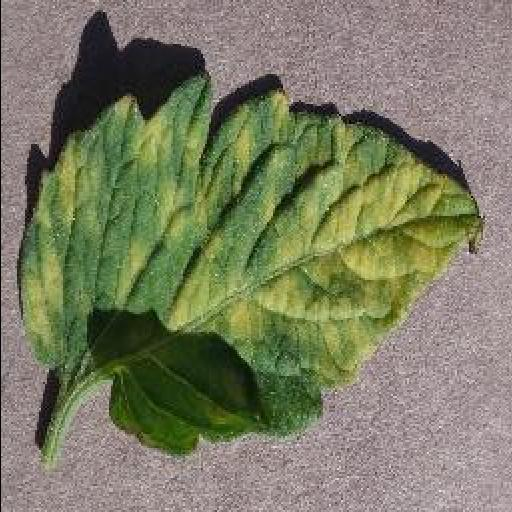disease_tomato: (20, 72, 486, 454)
